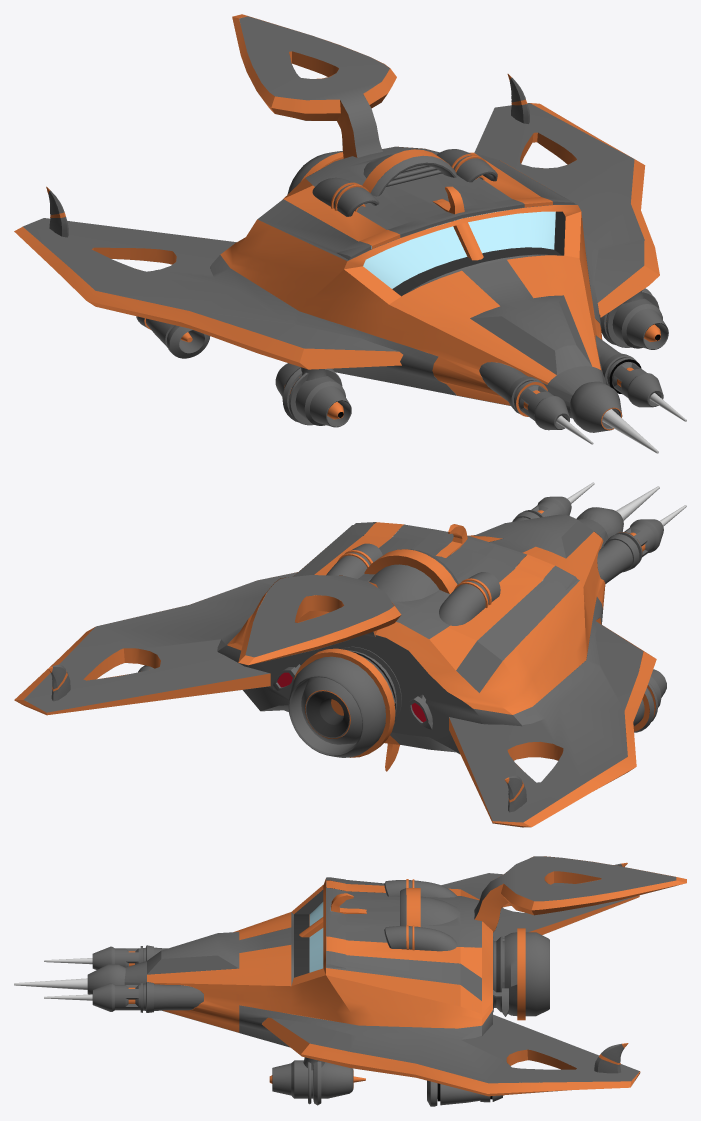
The model's file is spaceship-transformed.glb.
3 views of the same model, one above another, from view 1: azimuth 30°, elevation 25°; view 2: azimuth 150°, elevation 25°; view 3: azimuth 270°, elevation 25° (orthographic). The views are drawn at different scales.
Parts seen in each view (by area): view 1: Cube.003; view 2: Cube.003; view 3: Cube.003.
Part boxes in pixels (<box>): Cube.003: <box>14,14,686,453</box>; Cube.003: <box>14,482,686,827</box>; Cube.003: <box>14,856,686,1106</box>.
Bounding box in the file's own units: 3.63 × 1.36 × 4.75.
3 materials, 3 textured.
